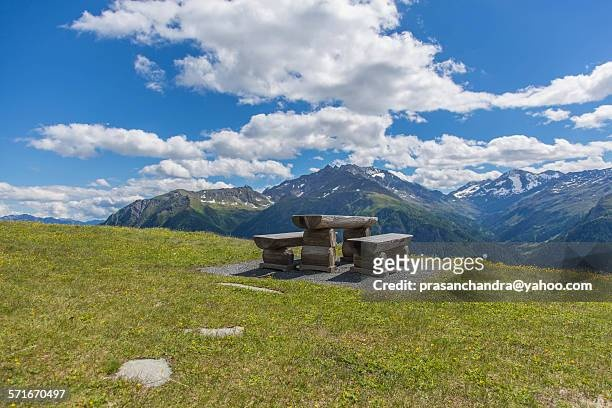obstacle: (292, 214, 377, 272)
